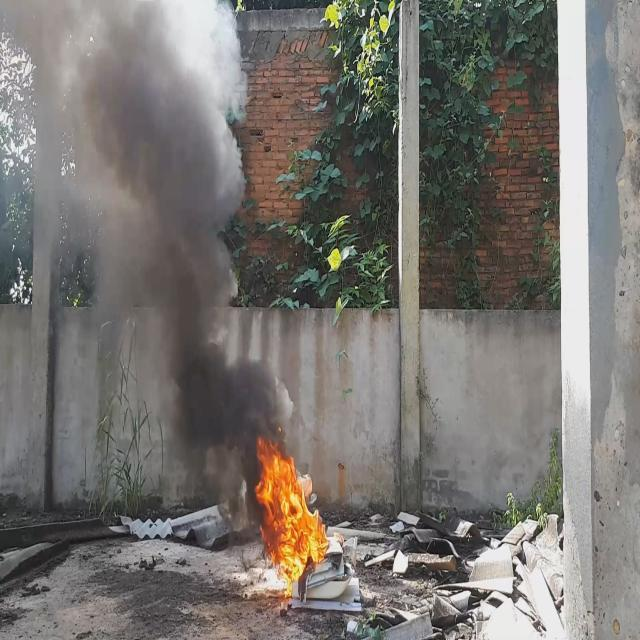Fire: (256, 435, 330, 581)
Smoke: (0, 0, 296, 529)
